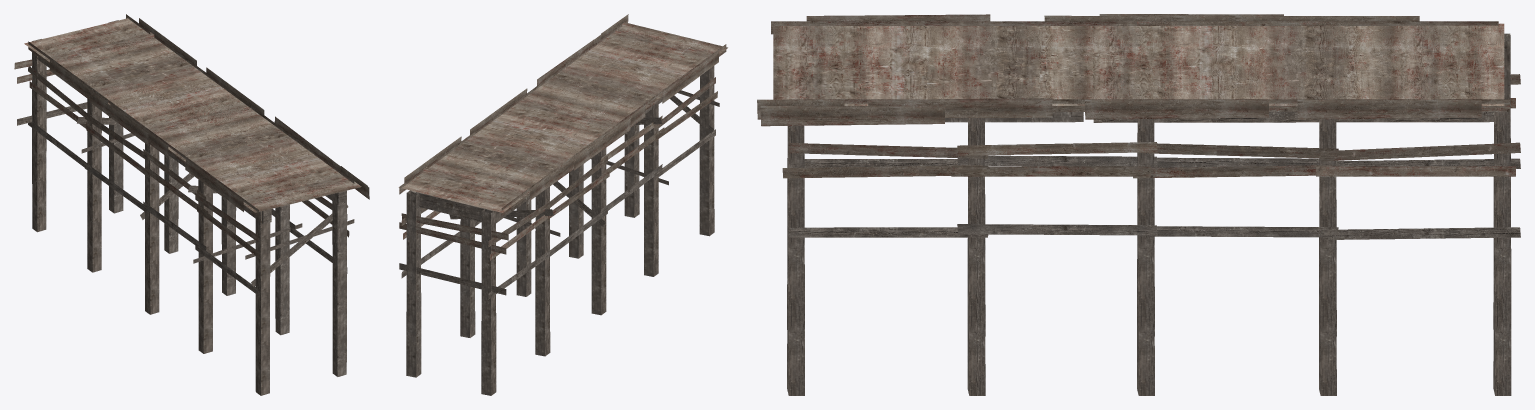
File: Pier2_LOD2.fbx
The picture shows the model from 3 angles, left to right: view 1: azimuth 30°, elevation 25°; view 2: azimuth 150°, elevation 25°; view 3: azimuth 270°, elevation 25°; orthographic projection. The views are drawn at different scales.
Visible parts, largest first — view 1: polySurface874; view 2: polySurface874; view 3: polySurface874.
Part boxes in pixels (x1=…): polySurface874: x1=14, y1=14, x2=369, y2=395; polySurface874: x1=398, y1=14, x2=727, y2=395; polySurface874: x1=757, y1=14, x2=1520, y2=395.
Size of the model in its own units: 3.4 by 5.33 by 12.02.
